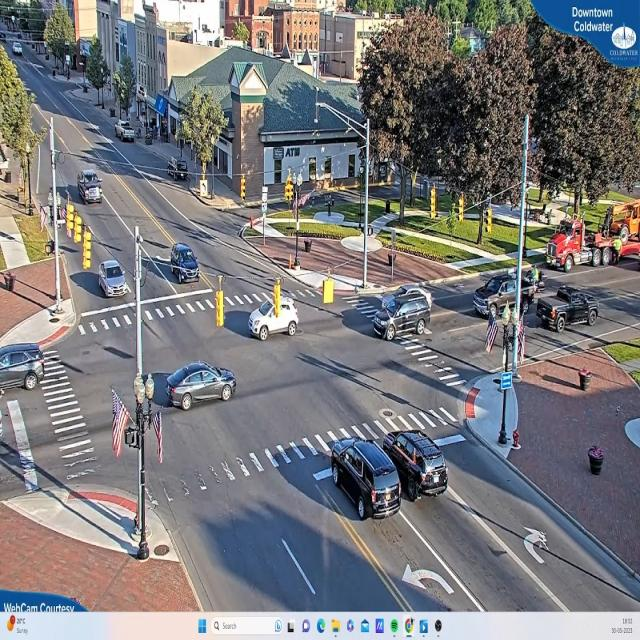car: (328, 438, 403, 522), (385, 430, 449, 498), (160, 362, 239, 412), (537, 288, 601, 333), (372, 290, 432, 336), (472, 275, 537, 316), (0, 344, 44, 393), (251, 300, 301, 340), (96, 259, 130, 298), (171, 244, 201, 281), (79, 172, 103, 205), (117, 121, 137, 145), (13, 44, 24, 57)
